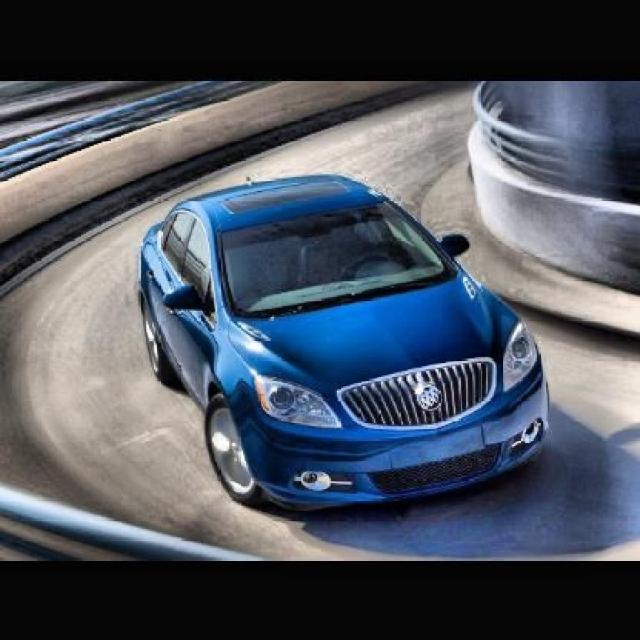blue: (138, 174, 551, 507)
